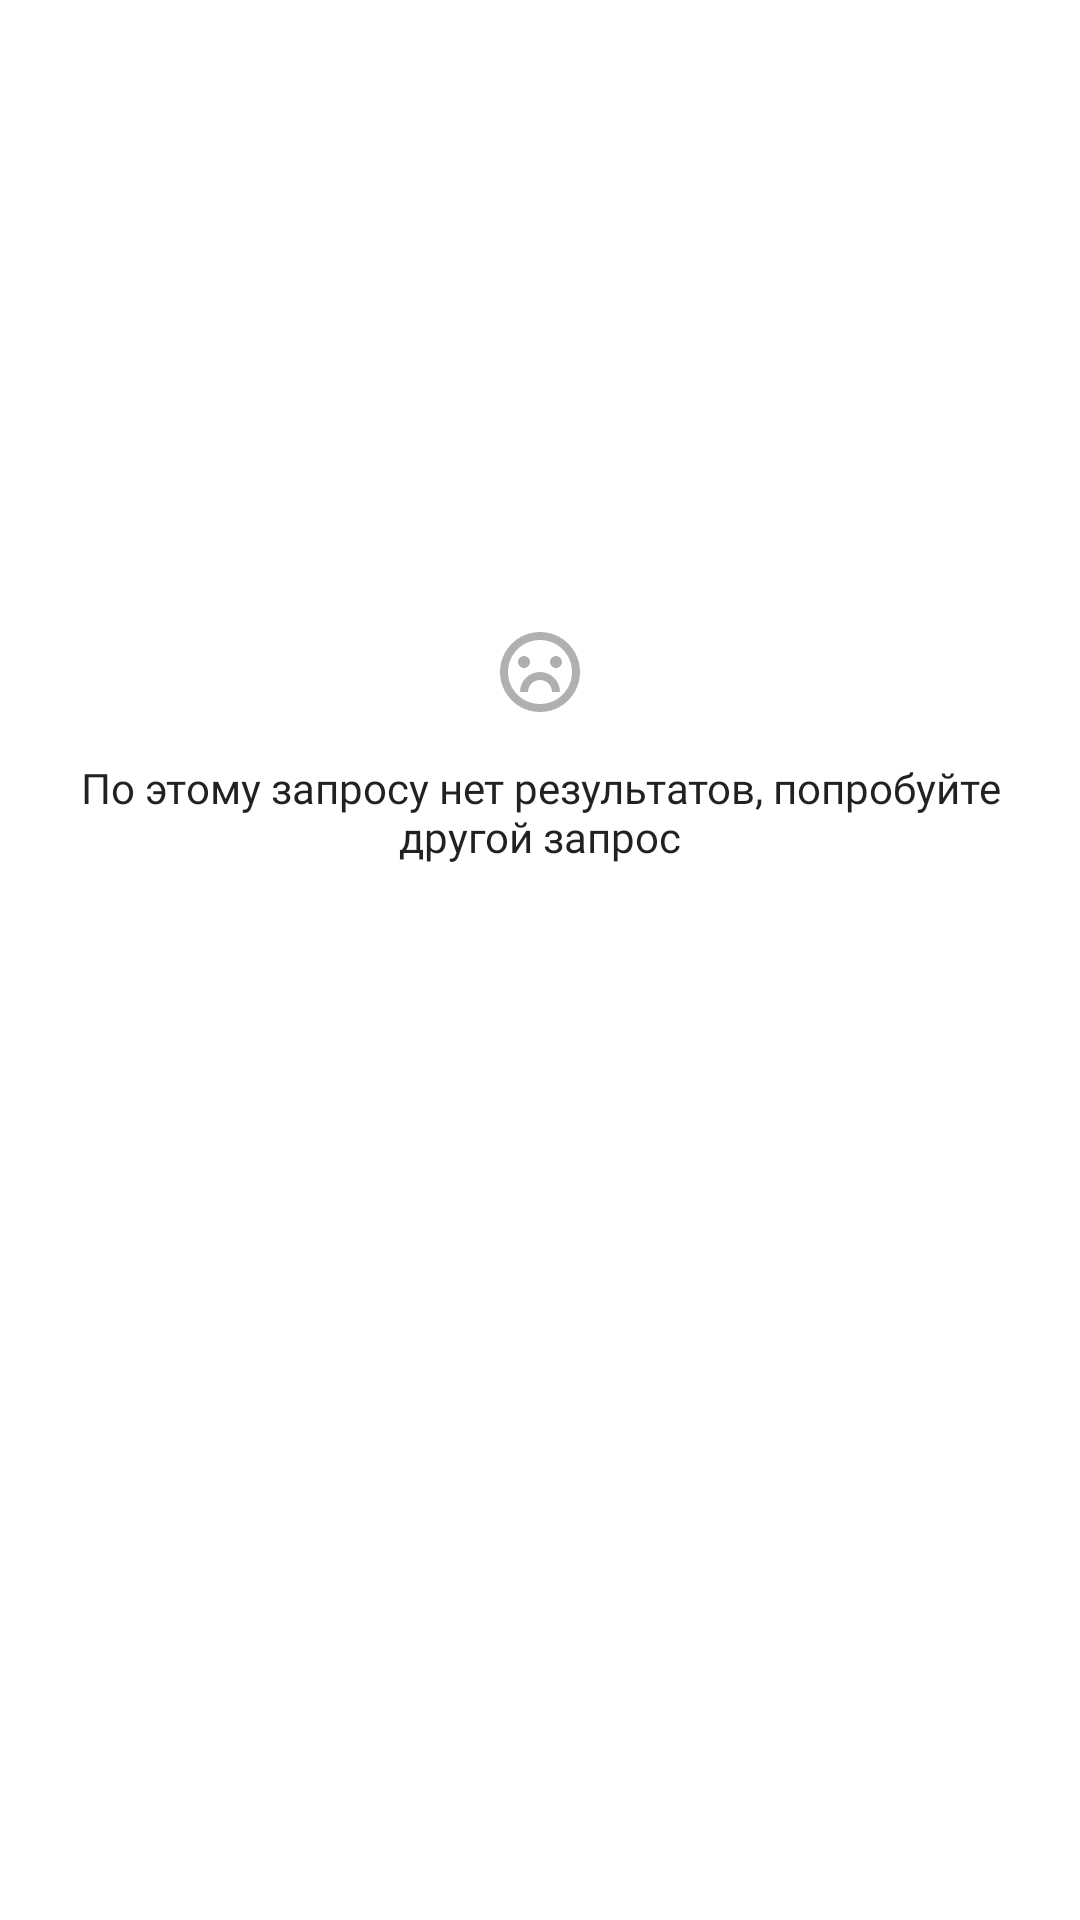

Icons on this 1080×1920 Android screen, each with its box as bbox=[x1, y1, x2, y2]:
sad face: bbox=[500, 632, 580, 712]
